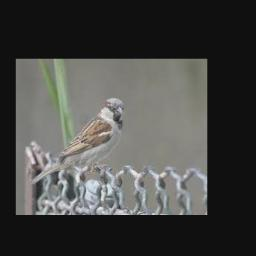Sparrow: (30, 97, 125, 187)
